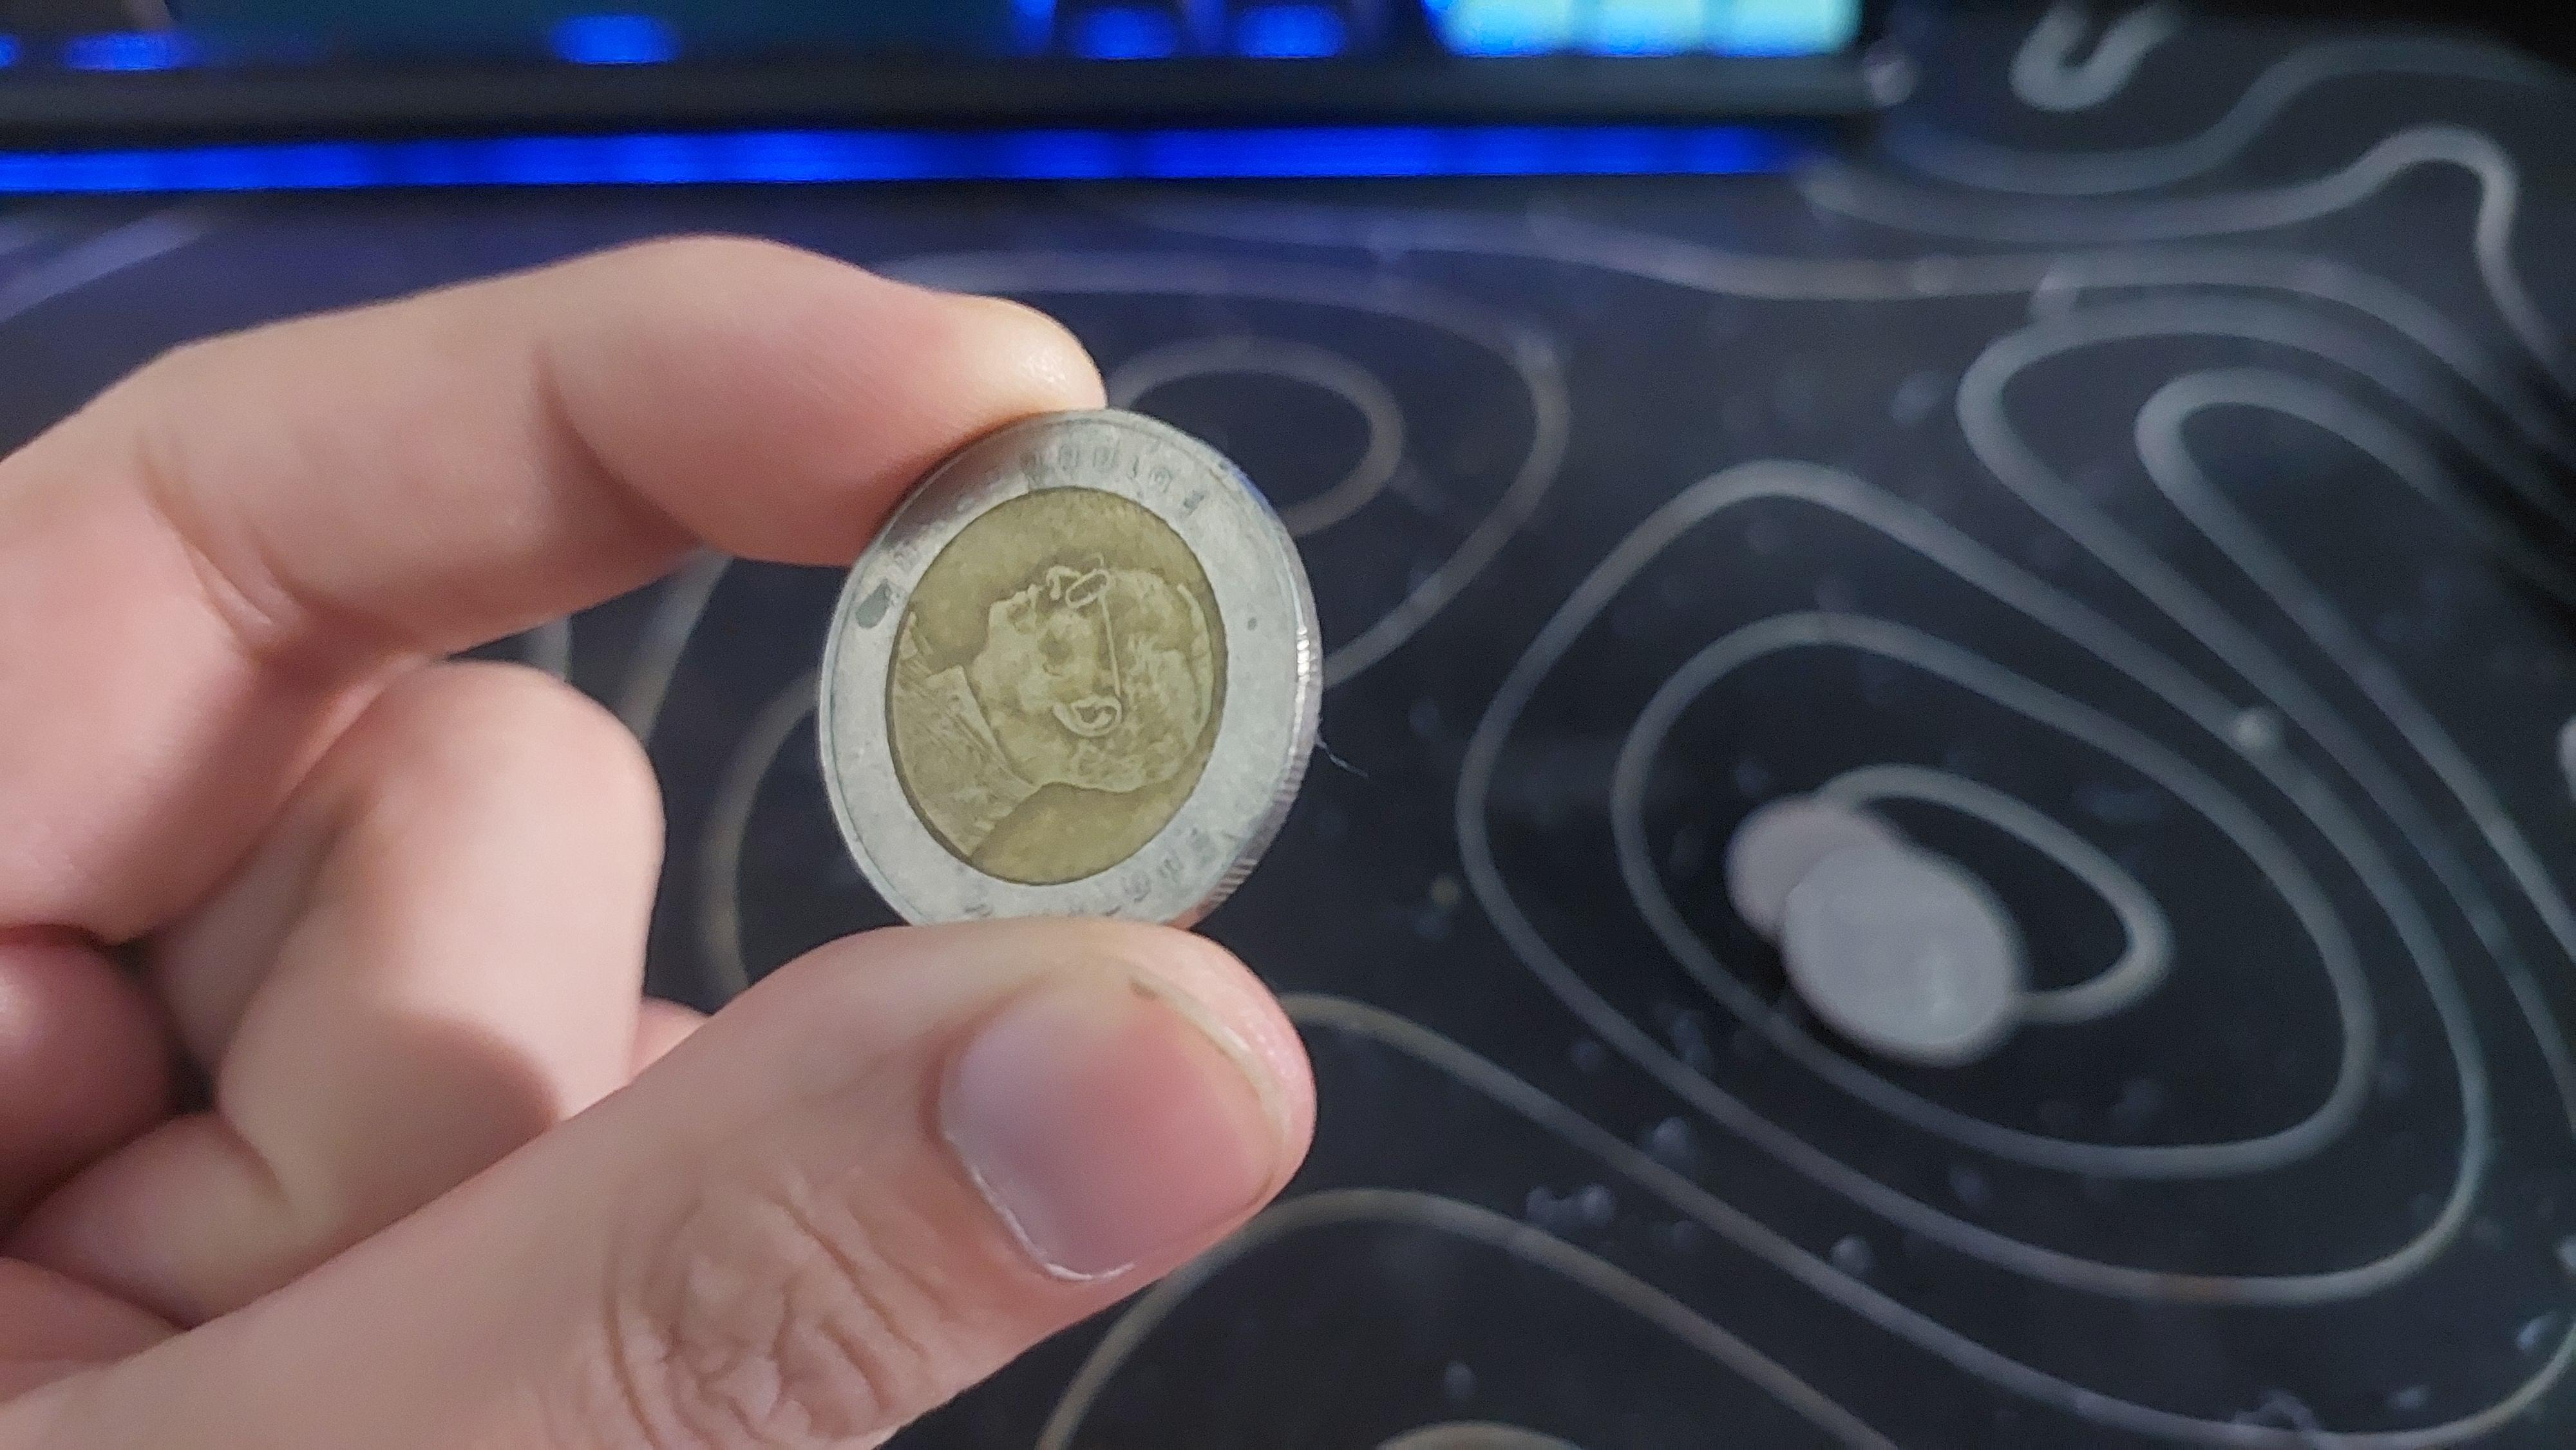10baht: (691, 283, 1402, 1022)
